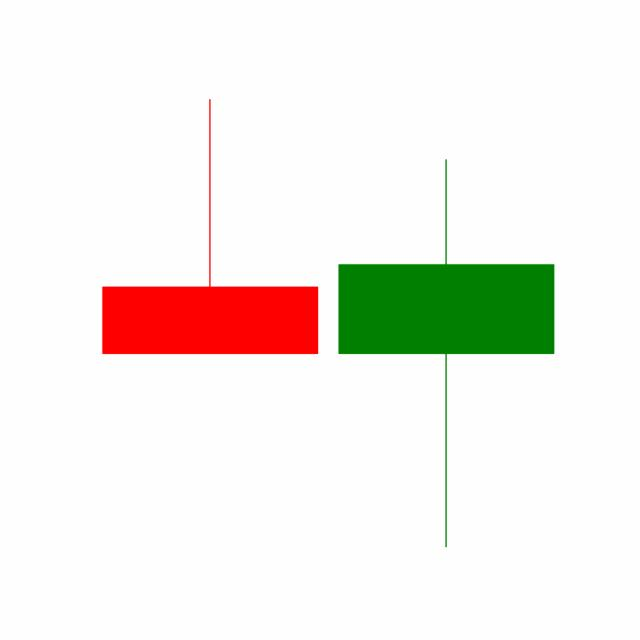Spinning Top: (327, 155, 565, 552)
